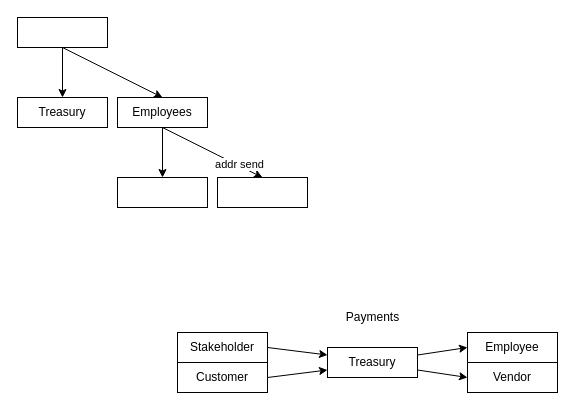
Image size: 575x410. Some labels were removed from this diagram. Each missing label, with the centre of its shape:
"&Payments" belongs at pixel 262 192.
"&Receipts" belongs at pixel 162 192.
"Enterprise" belongs at pixel 62 32.
